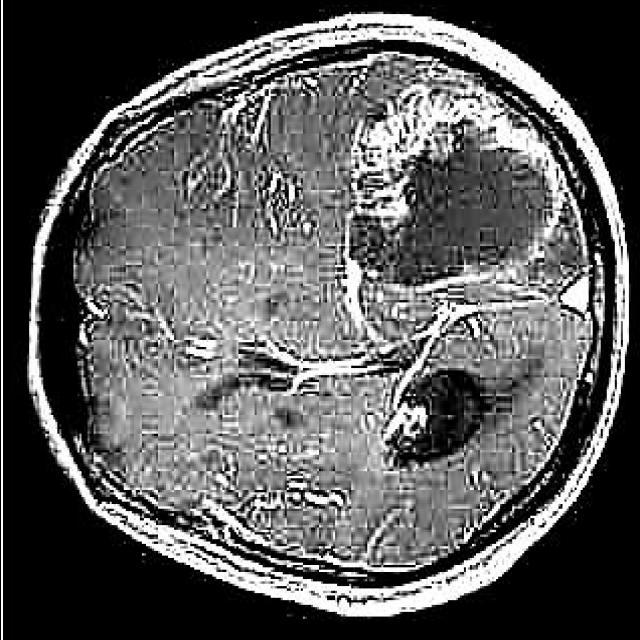tumor: (346, 115, 582, 293)
